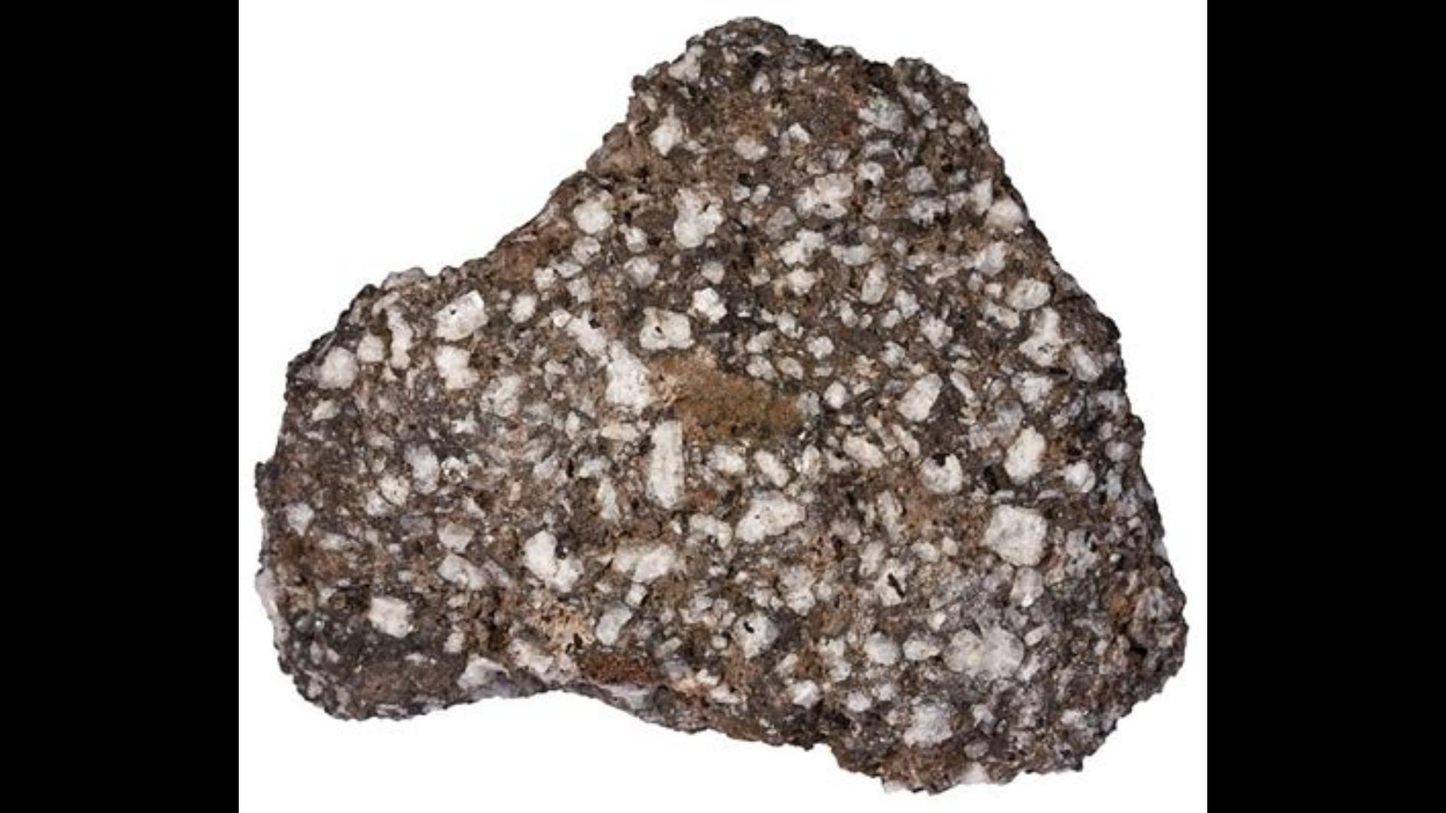rock: (257, 20, 1181, 788)
